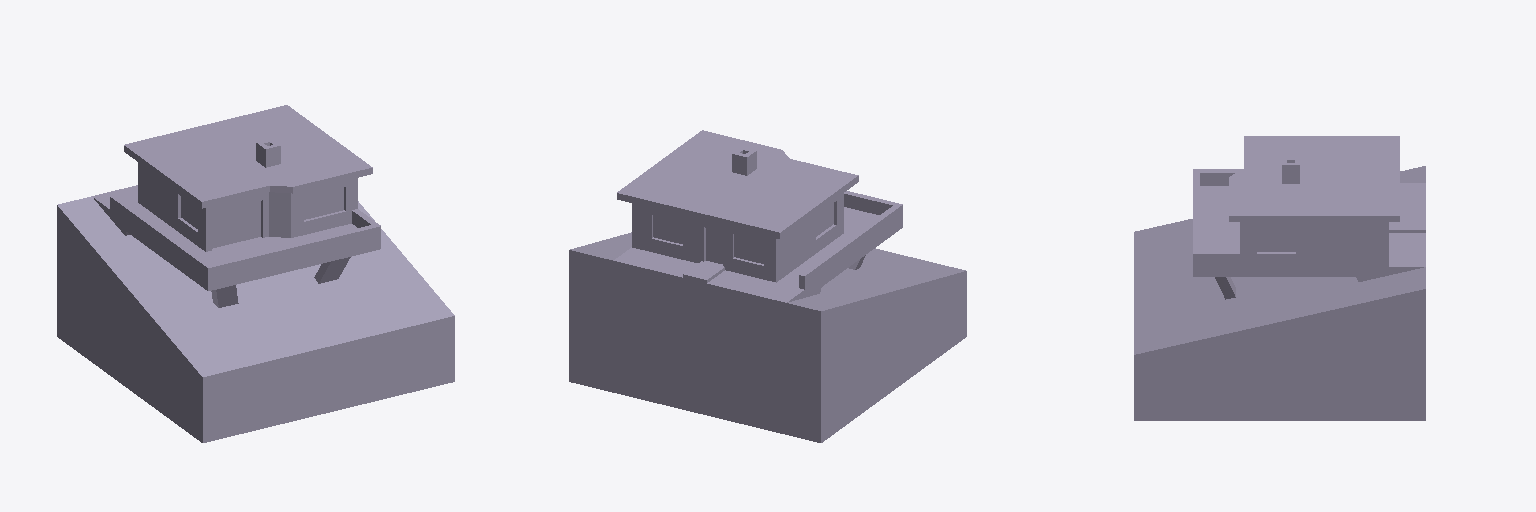
The model's file is building-house-hill1.obj.
3 renders of one model, left to right at view 1: azimuth 30°, elevation 25°; view 2: azimuth 150°, elevation 25°; view 3: azimuth 270°, elevation 25°, orthographic.
Parts seen in each view (by area): view 1: house-hill-small_Cube.005; view 2: house-hill-small_Cube.005; view 3: house-hill-small_Cube.005.
Part boxes in pixels (left/top/right/bottom): house-hill-small_Cube.005: left=57, top=105, right=454, bottom=442; house-hill-small_Cube.005: left=569, top=130, right=966, bottom=442; house-hill-small_Cube.005: left=1134, top=136, right=1425, bottom=420.
Size of the model in its own units: 8 by 6.26 by 8.